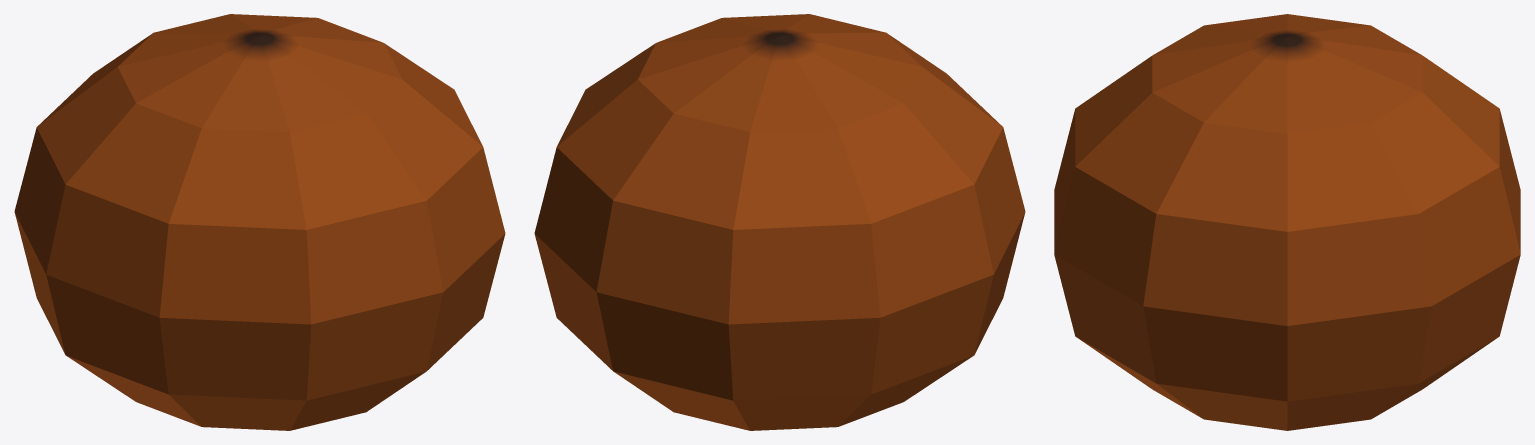
File: orange.fbx
The picture shows the model from 3 angles, left to right: view 1: azimuth 30°, elevation 25°; view 2: azimuth 150°, elevation 25°; view 3: azimuth 270°, elevation 25°; orthographic projection.
Parts seen in each view (by area): view 1: pSphere2; view 2: pSphere2; view 3: pSphere2.
Boxes of the visible parts, <box> form: pSphere2: <box>14,14,505,430</box>; pSphere2: <box>534,14,1025,430</box>; pSphere2: <box>1054,14,1520,430</box>.
Size of the model in its own units: 157 by 130 by 149.
